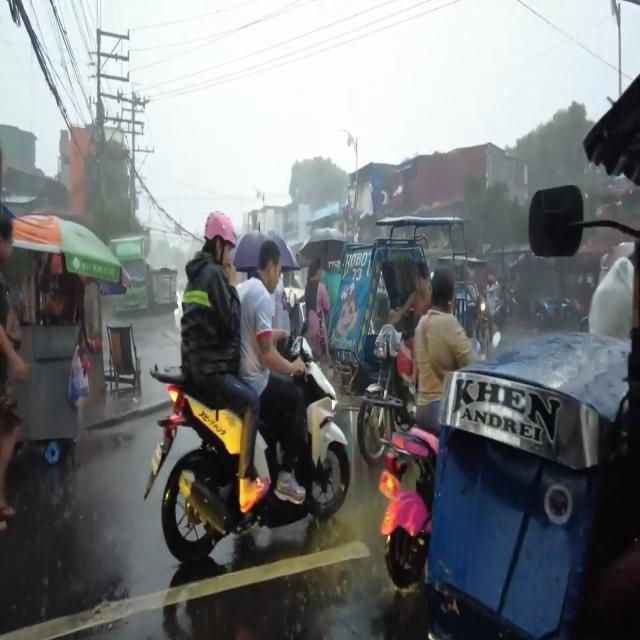invalid: (204, 211, 236, 272)
not_wearing: (258, 239, 282, 293), (432, 267, 456, 311)
